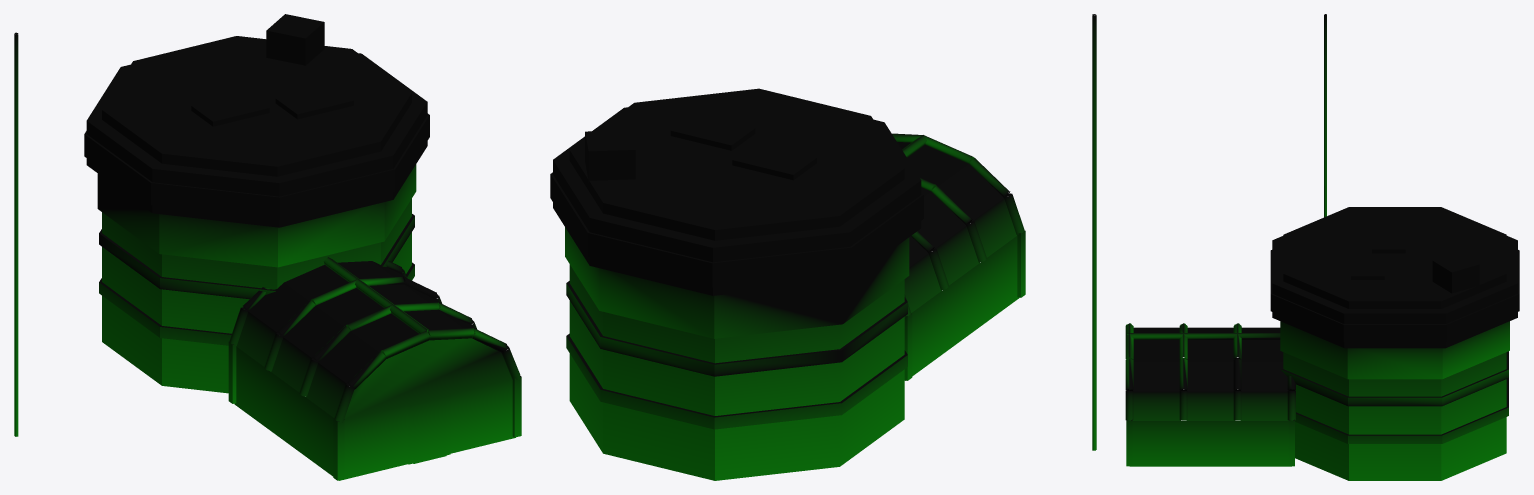
Rendered from l_spotlightcontrol.glb.
The picture shows the model from 3 angles, left to right: view 1: azimuth 30°, elevation 25°; view 2: azimuth 150°, elevation 25°; view 3: azimuth 270°, elevation 25°; orthographic projection. The views are drawn at different scales.
Visible parts, largest first — view 1: lod0; view 2: lod0; view 3: lod0.
Boxes of the visible parts, x1,y1,x2,y2 form: lod0: (14,14,521,480); lod0: (550,14,1096,480); lod0: (1125,14,1519,480).
Size of what is drawn, in the model's own units: 18.09 by 16.3 by 18.71.
